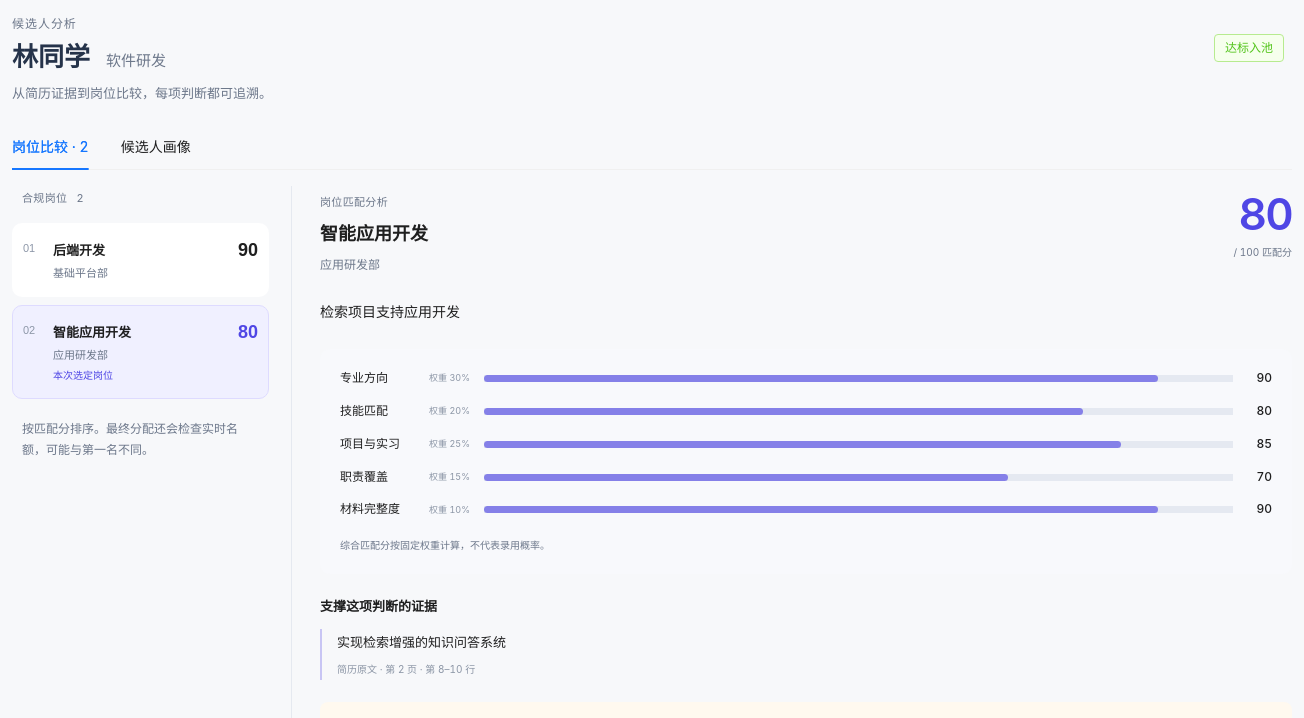
Test case: CandidateAnalysis › selects the assigned job and lets HR compare another rank with its own evidence
Expected: the heading "智能应用开发" is shown, [320,220,428,248]
Click the button "01 后端开发 基础平台部 90".
click(140, 260)  # box [12,223,269,297]
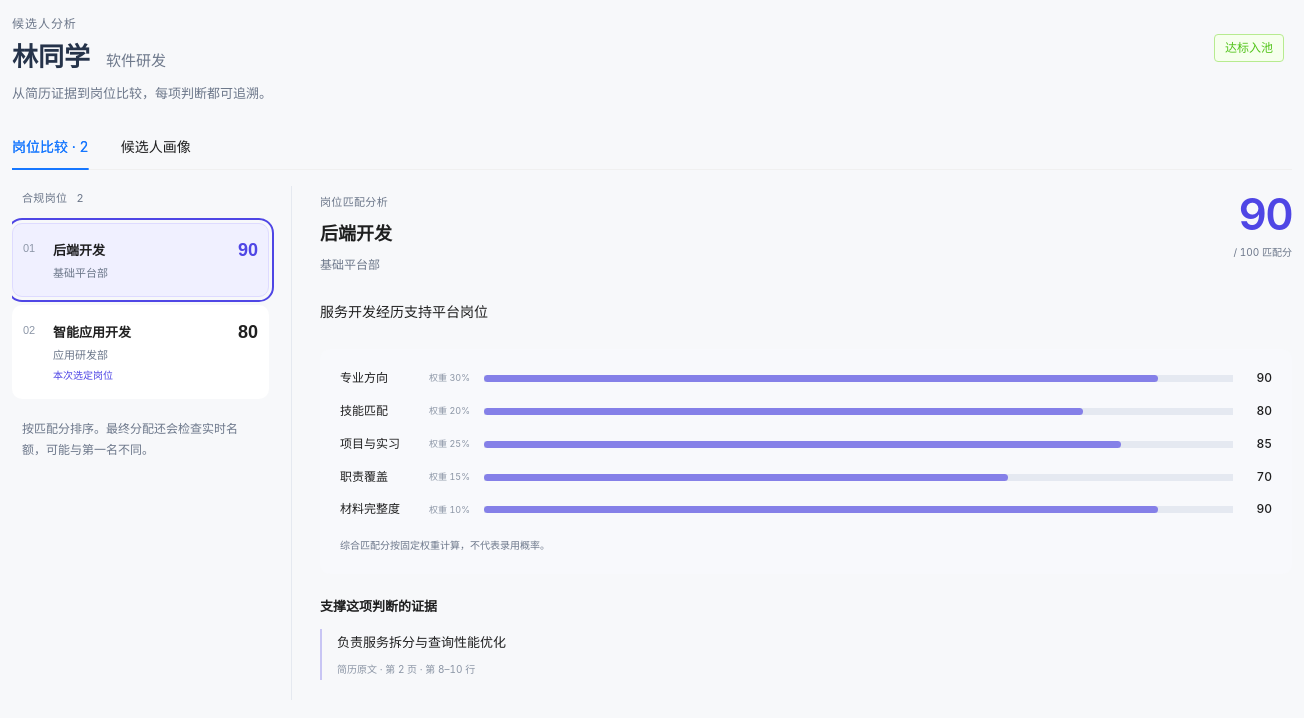
Now the text "负责服务拆分与查询性能优化" is shown, box [337,634,506,650]
